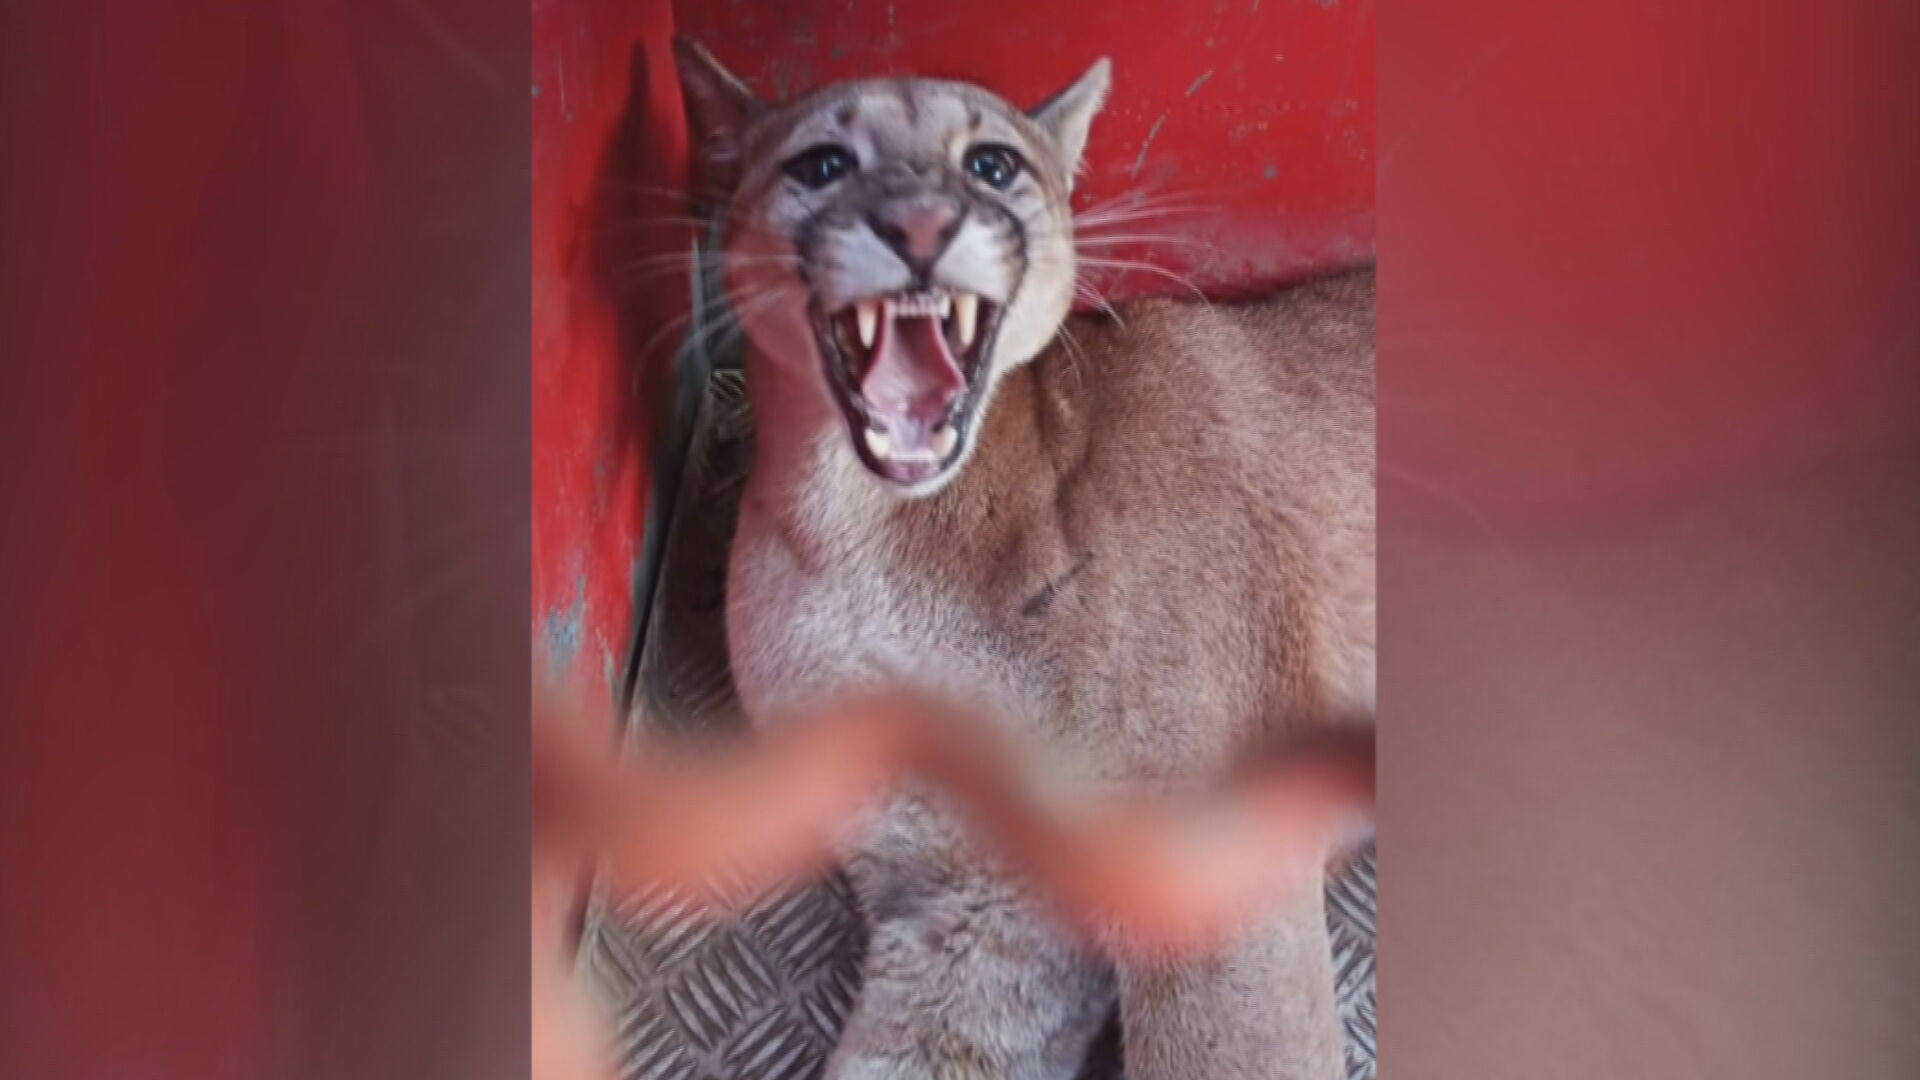OncaParda: (637, 29, 1364, 1048)
